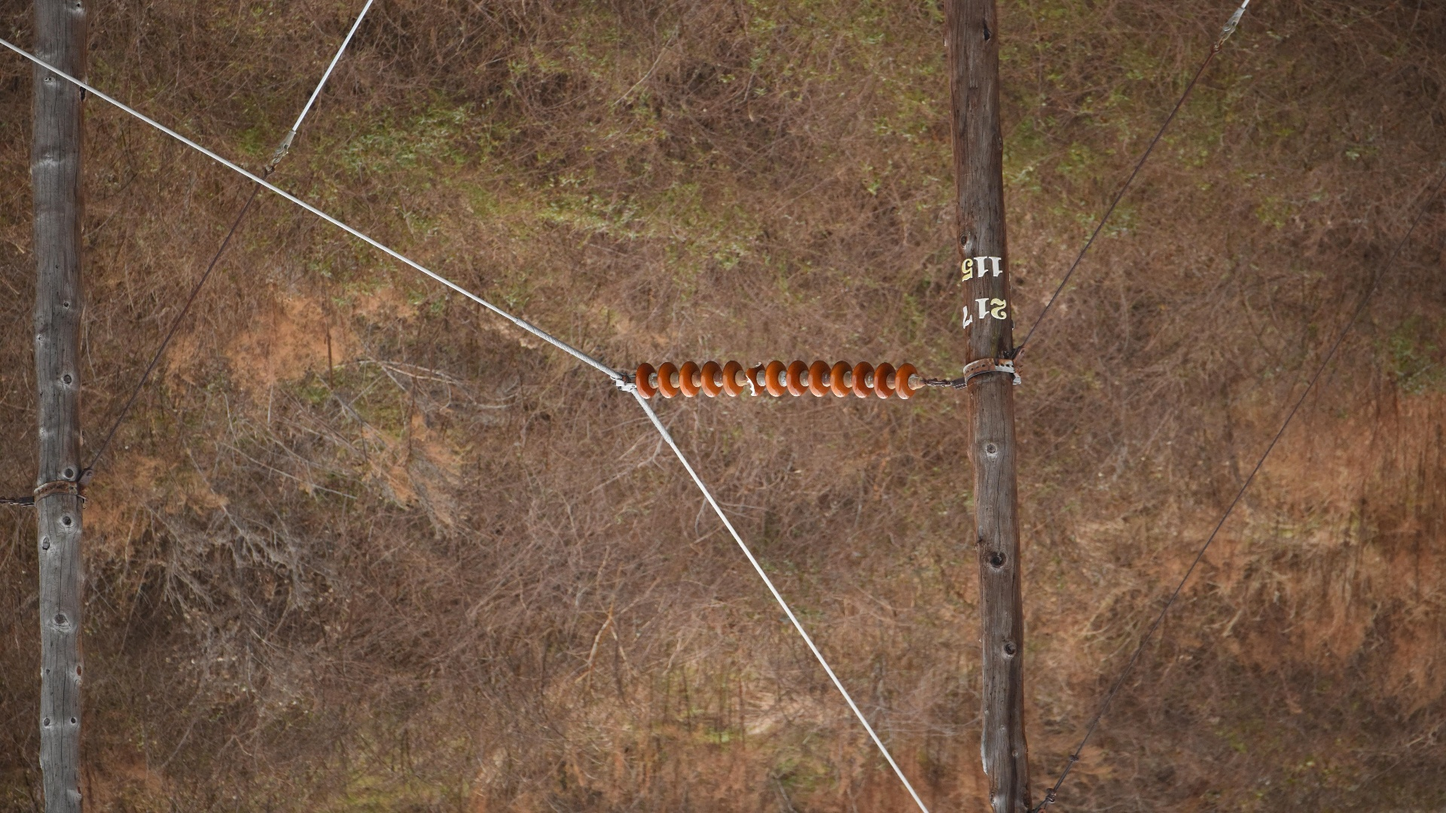insulator: (631, 358, 921, 403), (747, 360, 763, 371)
insulator_breakage: (743, 372, 758, 397)
